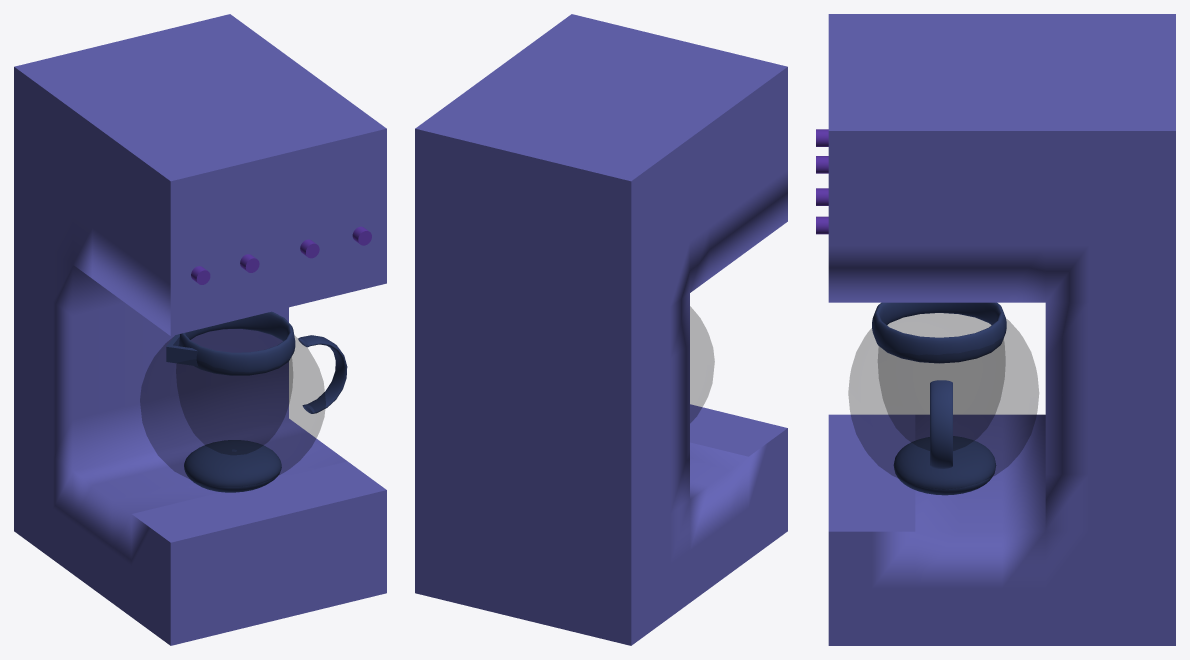
The model's file is Coffeemaker.fbx.
3 views of the same model, side by side, from view 1: azimuth 30°, elevation 25°; view 2: azimuth 150°, elevation 25°; view 3: azimuth 270°, elevation 25° (orthographic). The views are drawn at different scales.
Visible parts, largest first — view 1: pCube1, pCube4, pCube5, pTorus1, polySurface1, pCube8; view 2: pCube1, pCube4; view 3: pCube1, pCube4, pTorus1, pCube5, polySurface1.
Part boxes in pixels (box(x1,y1,x2,y2)): pCube1: box(14, 14, 386, 645); pCube4: box(140, 329, 325, 486); pCube5: box(184, 440, 281, 492); pTorus1: box(179, 311, 295, 375); polySurface1: box(298, 335, 347, 413); pCube8: box(166, 334, 198, 366); pCube1: box(415, 14, 787, 645); pCube4: box(690, 306, 714, 422); pCube1: box(828, 14, 1175, 645); pCube4: box(848, 313, 1038, 489); pTorus1: box(872, 302, 1006, 363); pCube5: box(893, 436, 996, 495); polySurface1: box(930, 380, 952, 468).
Size of the model in its own units: 0.7217 by 1.43 by 0.905.
